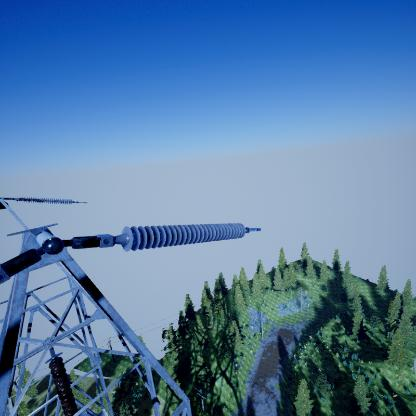insulator: (120, 221, 247, 252)
